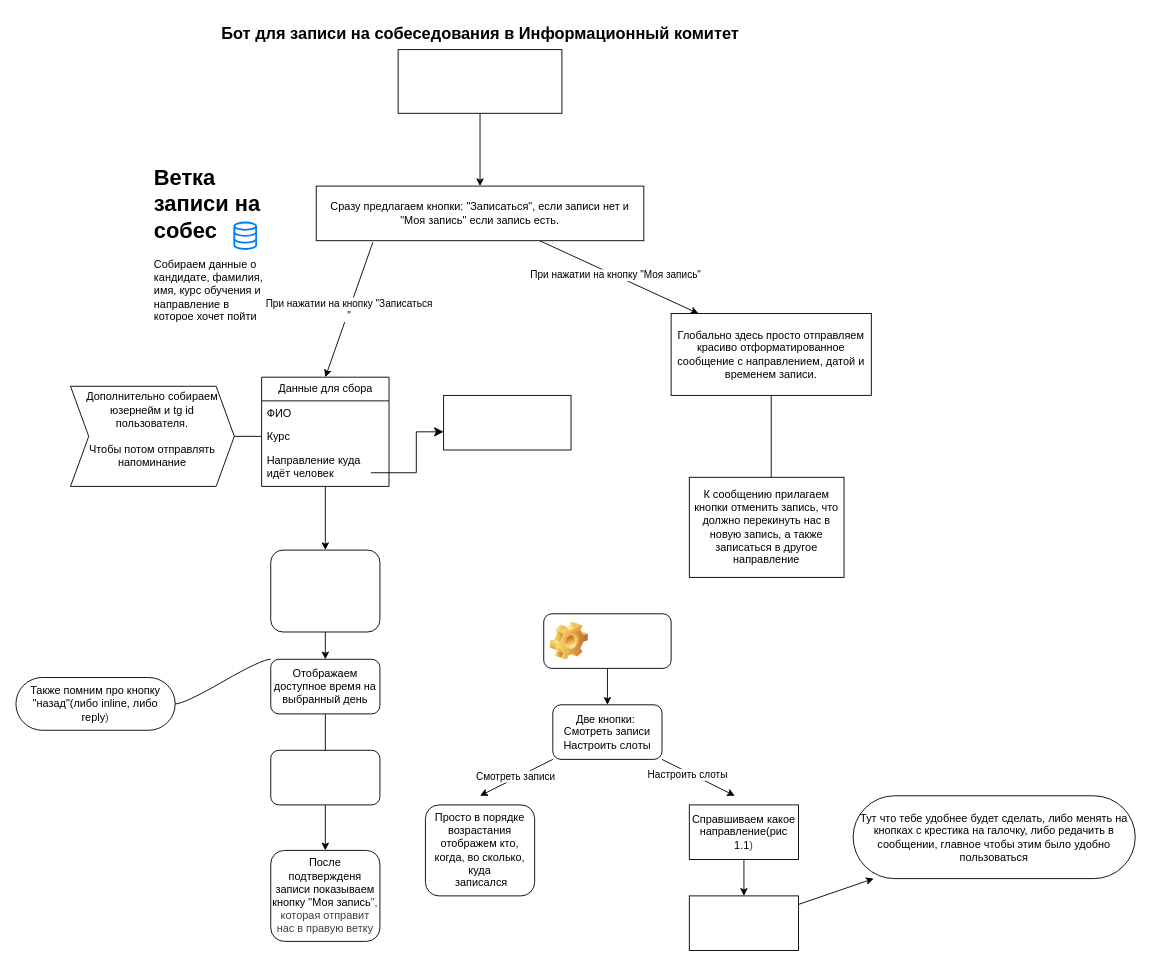
Some shapes in this 1151 by 966 pixel diagram are drawn without their labels. The shapes that lost their labels are listed below. From the top down, each one's box as (x1, y1, x2, y2) in pixels, then its label:
(397, 49, 562, 113): Приветствие Для него будет какой-то текст, но о нём потом
(443, 394, 571, 450): ЦТ, Фото, Дизайн, F&U prod.(Сценарист), F&U prod.(Оператор), СМИ
(270, 549, 380, 632): Отображаем возможные даты для записи на собесы inline кнопками
(543, 613, 671, 668): Админский функционал, команда /y asha_forever
(270, 749, 380, 805): Тут должно быть подтверждение записи
(688, 895, 799, 950): Также дата -> переход во время.
